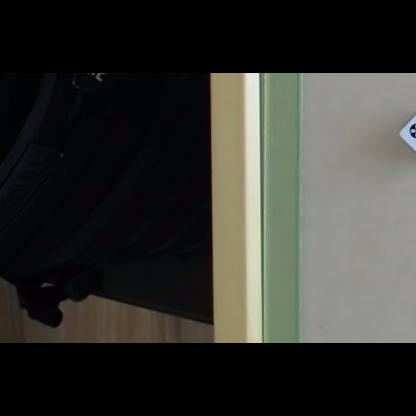2p: (408, 122, 416, 152)
